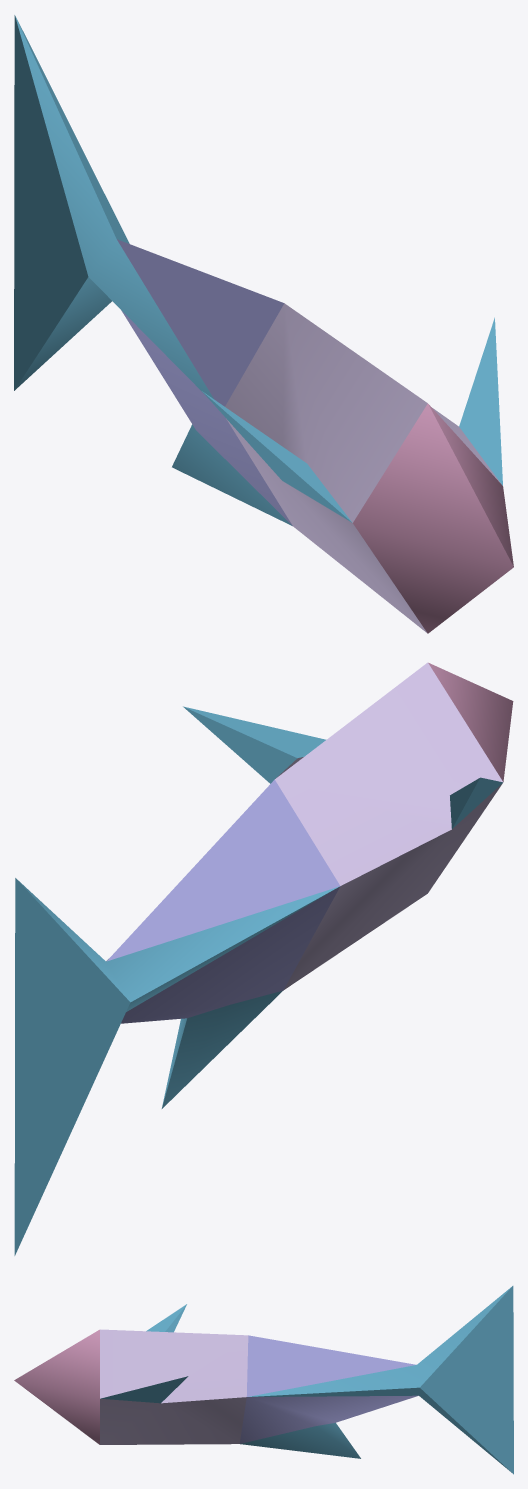
Rendered from FishType_Long_2.fbx.
3 views of the same model, one above another, from view 1: azimuth 30°, elevation 25°; view 2: azimuth 150°, elevation 25°; view 3: azimuth 270°, elevation 25° (orthographic). The views are drawn at different scales.
Parts seen in each view (by area): view 1: FishType_Long_2; view 2: FishType_Long_2; view 3: FishType_Long_2.
Boxes of the visible parts, x1,y1,x2,y2 form: FishType_Long_2: (14, 15, 513, 633); FishType_Long_2: (14, 662, 513, 1255); FishType_Long_2: (14, 1286, 513, 1474).
Bounding box in the file's own units: 0.8788 × 1.07 × 2.57.
Materials: 1 (1 with a texture image).
